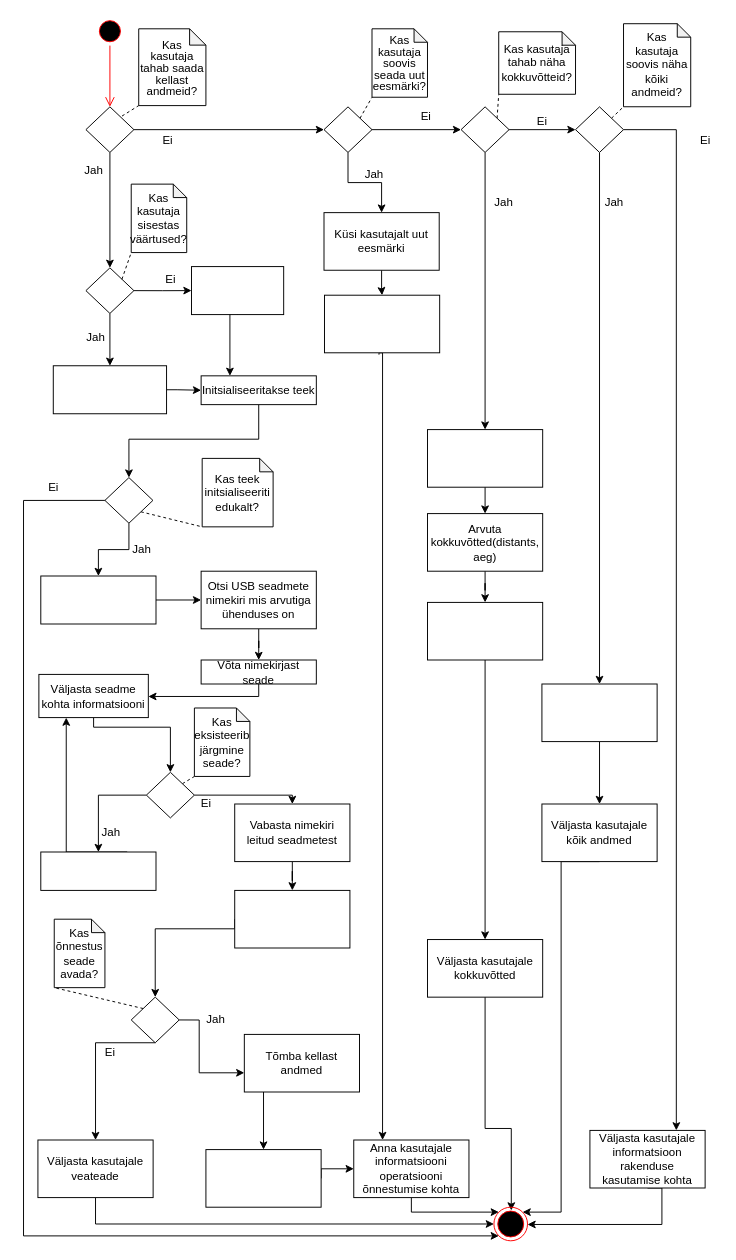
Image size: 736x1260. Some labels were removed from this diagram. Here are the shapes that lost their labels. From the top down, the box of each, then its label:
(191, 266, 284, 315): Kasutatakse vaikeväärtuseid
(324, 294, 440, 353): Kirjuta kasutajalt saadud uus eesmärk faili
(52, 365, 167, 414): Kasutatakse kasutaja muutujaid
(427, 429, 543, 487): Loe sisse failist vajalikud andmed
(40, 575, 156, 624): Väljasta kasutajale info rakenduse kohta
(427, 601, 543, 660): Arvuta % eesmärkidest
(541, 683, 657, 742): Loe sisse failist kõik andmed
(40, 851, 156, 890): Võta järgmine seade
(234, 889, 350, 948): Proovi avada kasutaja valitud seadet
(205, 1149, 321, 1207): Kirjuta saadud andmed faili
